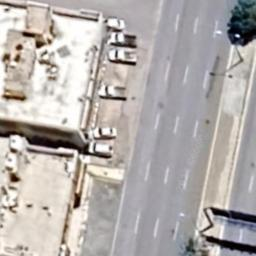SUV: (88, 140, 114, 158)
pickup: (108, 48, 138, 64), (98, 84, 126, 100), (110, 32, 137, 48)
sedan: (92, 126, 118, 140), (103, 16, 126, 30)
